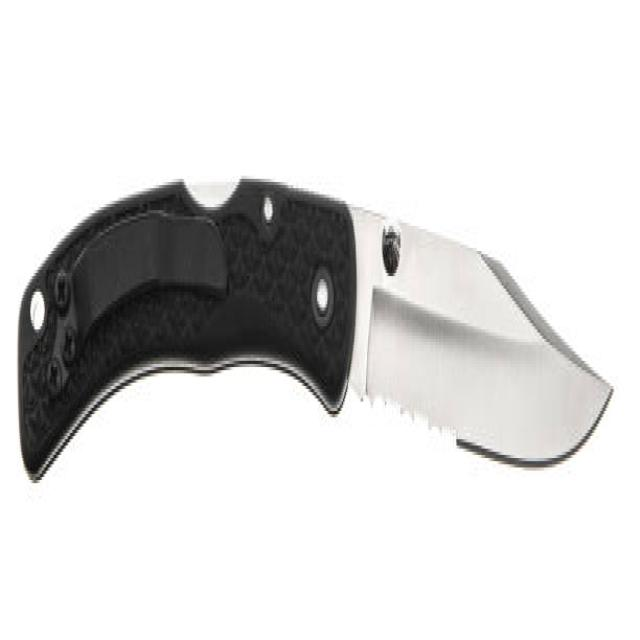knife: (13, 142, 626, 604)
